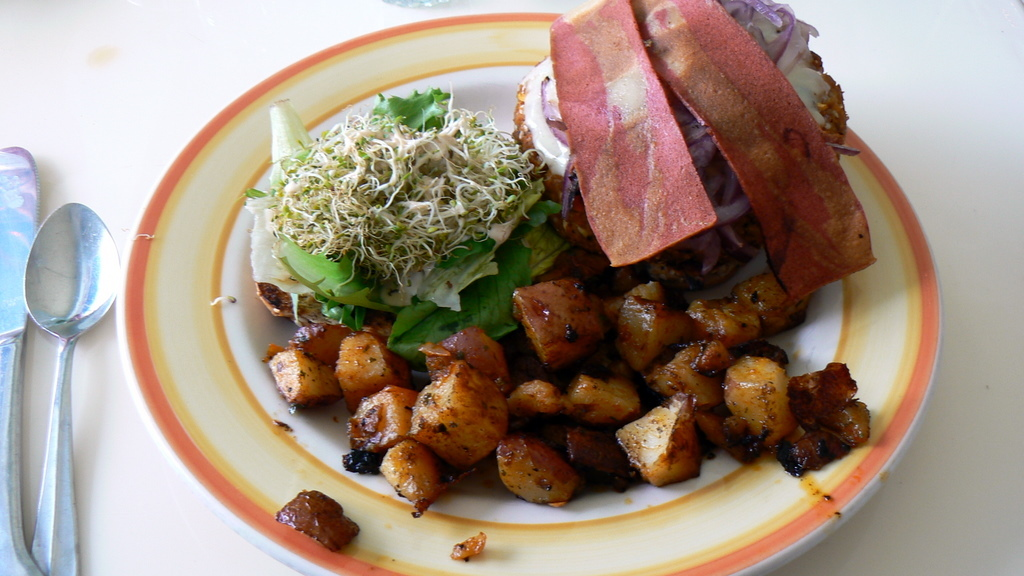salad: (207, 0, 909, 571)
